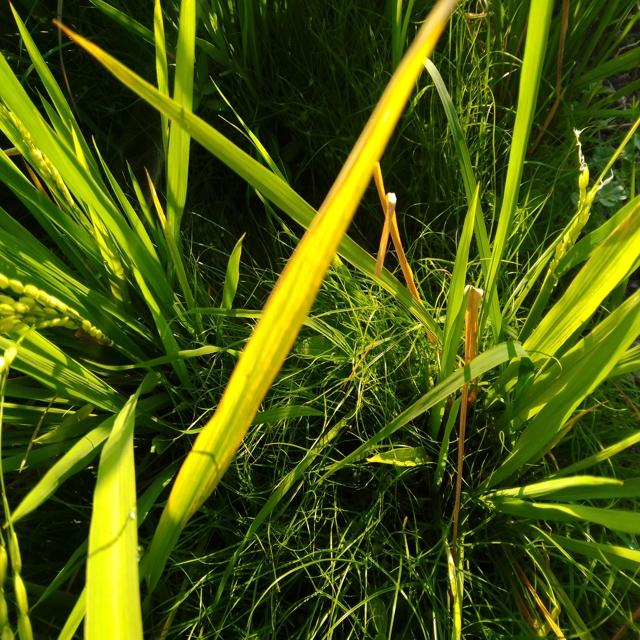Brown spot: (369, 179, 464, 330)
